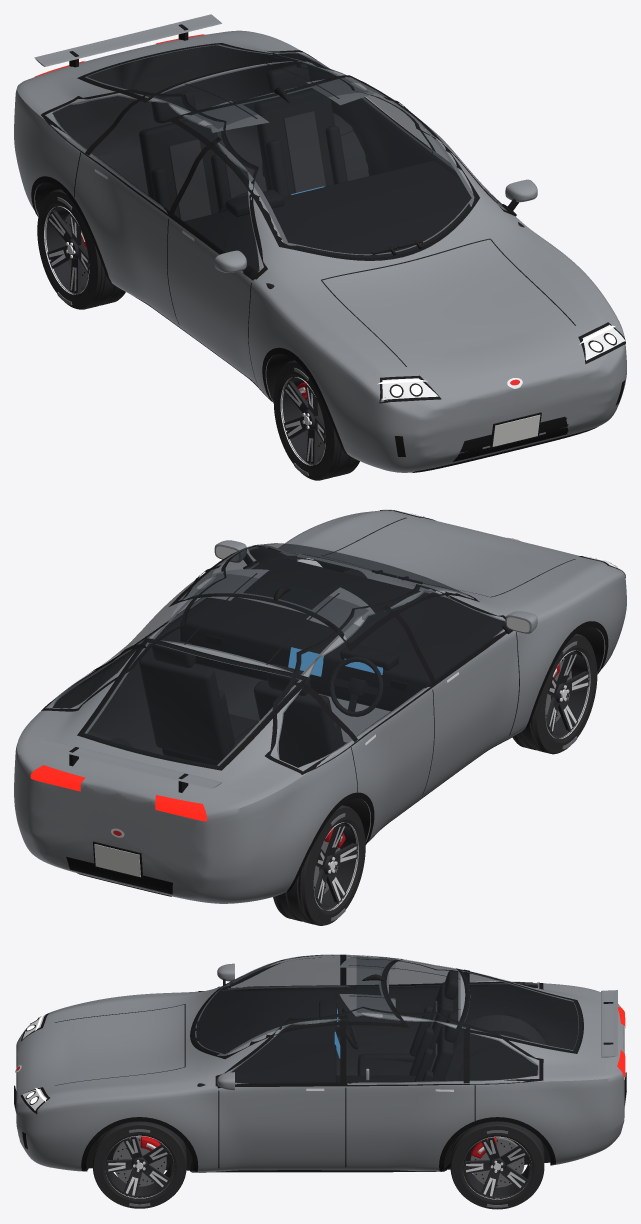
The model's file is modelxplaid.glb.
3 renders of one model, top to bottom at view 1: azimuth 30°, elevation 25°; view 2: azimuth 150°, elevation 25°; view 3: azimuth 270°, elevation 25°, orthographic. The views are drawn at different scales.
Visible parts, largest first — view 1: Body, Wheel_RR, Wheel_FR; view 2: Body, Wheel_RR, Wheel_FR; view 3: Body, Wheel_RL, Wheel_FL.
Boxes of the visible parts, x1=… form: Body: x1=14, y1=14, x2=626, y2=472; Wheel_RR: x1=37, y1=189, x2=125, y2=309; Wheel_FR: x1=273, y1=360, x2=359, y2=480; Body: x1=14, y1=509, x2=626, y2=903; Wheel_RR: x1=273, y1=805, x2=365, y2=925; Wheel_FR: x1=512, y1=634, x2=597, y2=754; Body: x1=14, y1=954, x2=626, y2=1172; Wheel_RL: x1=450, y1=1121, x2=544, y2=1209; Wheel_FL: x1=92, y1=1121, x2=186, y2=1208.
Size of the model in its own units: 2.33 by 1.7 by 5.09.
